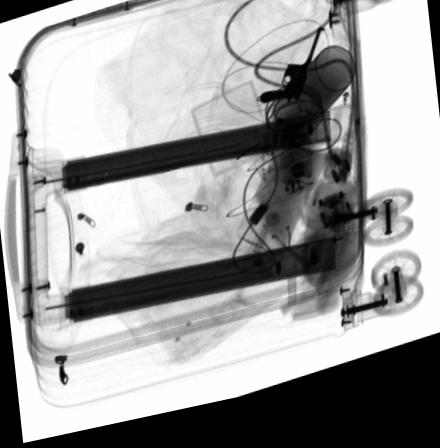Gun: (258, 39, 324, 114)
